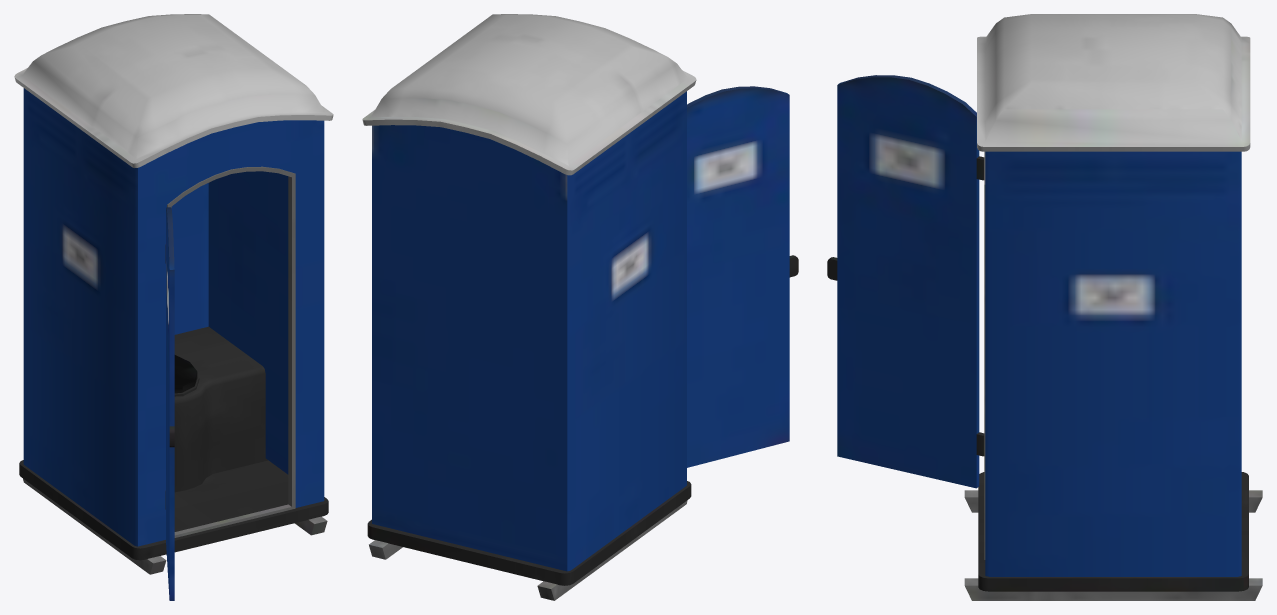
File: Portaloo.glb
3 renders of one model, left to right at view 1: azimuth 30°, elevation 25°; view 2: azimuth 150°, elevation 25°; view 3: azimuth 270°, elevation 25°, orthographic. The views are drawn at different scales.
Parts seen in each view (by area): view 1: Portaloo; view 2: Portaloo; view 3: Portaloo.
Part boxes in pixels (left/top/right/bottom): Portaloo: left=14, top=14, right=333, bottom=600; Portaloo: left=362, top=14, right=798, bottom=600; Portaloo: left=827, top=14, right=1262, bottom=600.
Bounding box in the file's own units: 1.43 × 2.71 × 2.07.
1 material, 1 textured.
